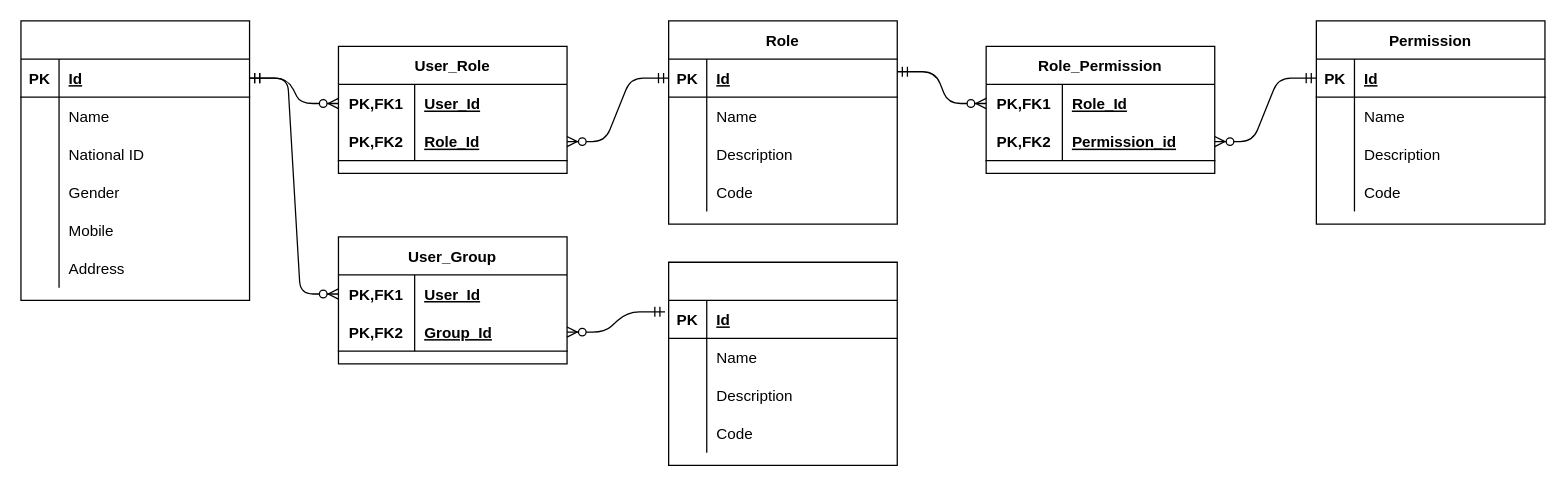
This 1566x486 diagram has some shape labels left out. The box of each missing label's shape, as (x1, y1, x2, y2) in pixels:
Group: (667, 261, 897, 465)
User: (20, 20, 250, 300)
